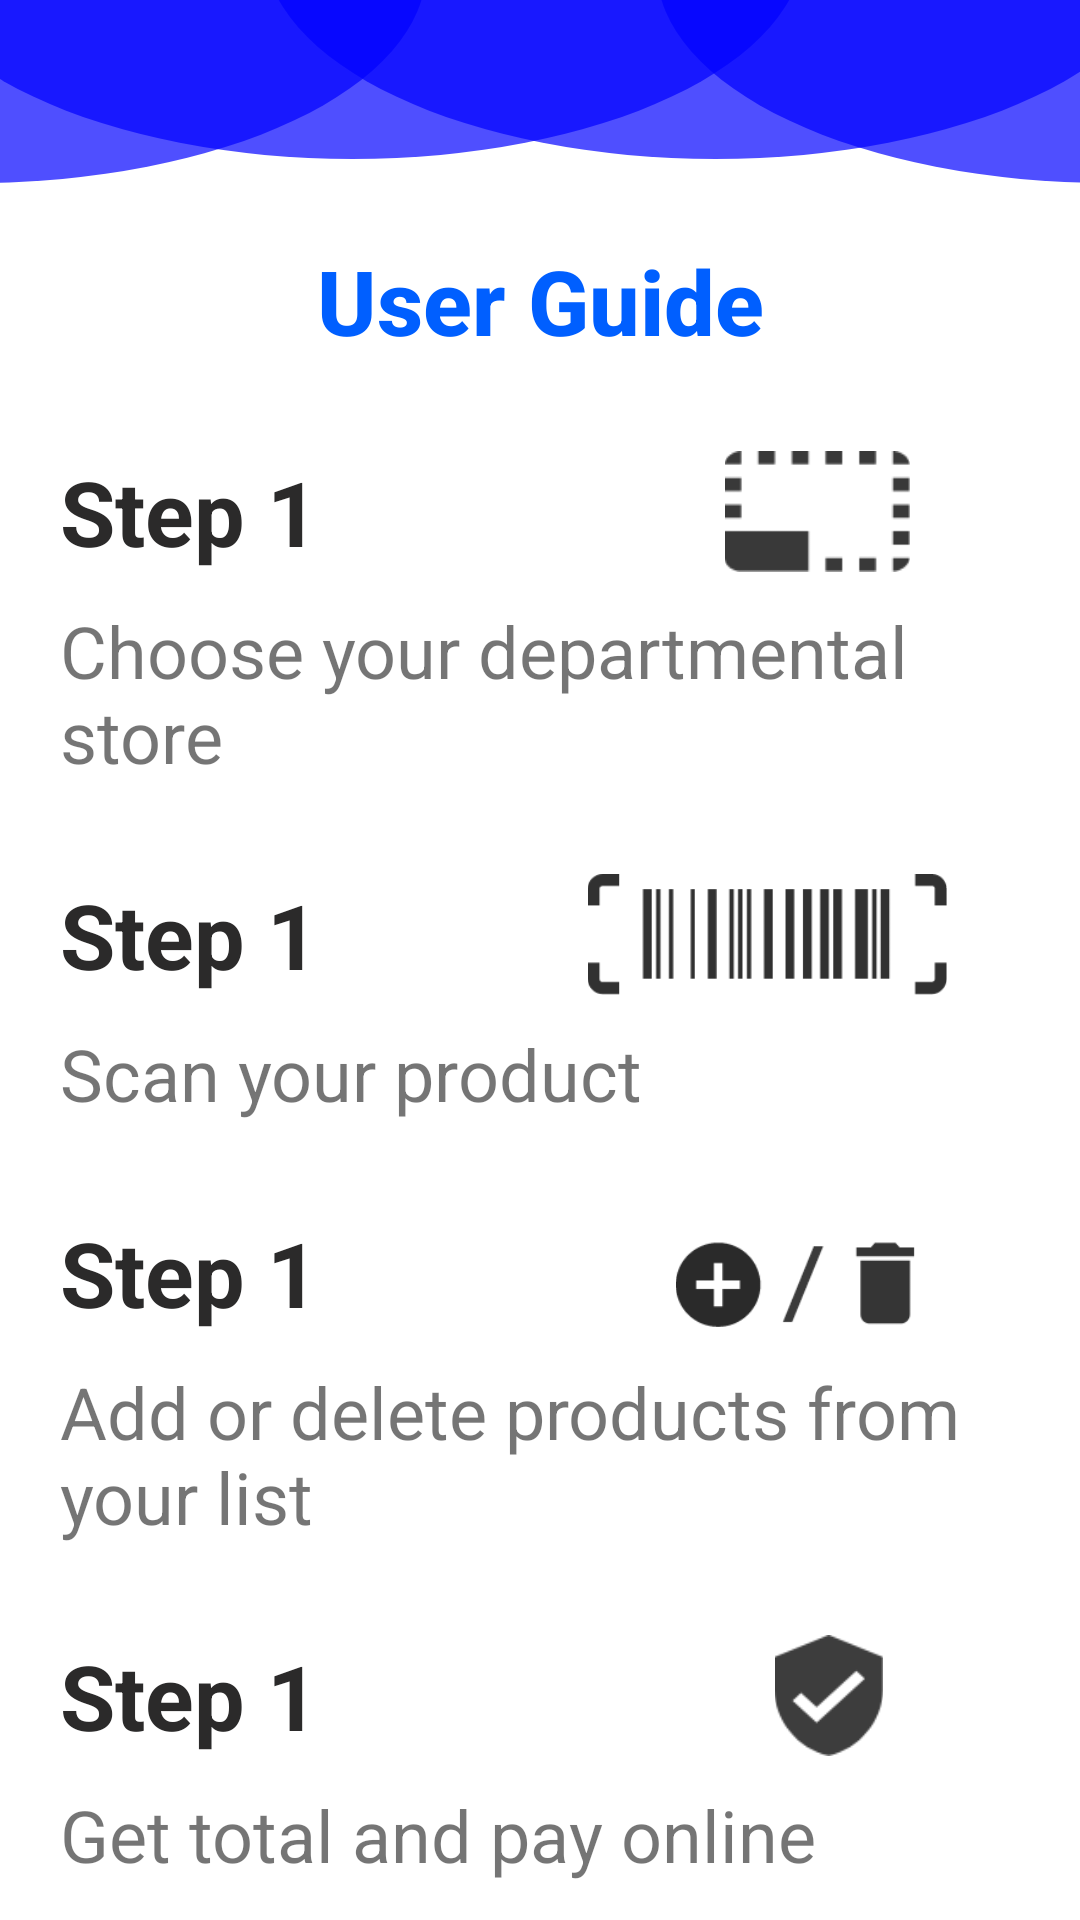

Where to tap for icons on this 1080x1920 app screen, as (x,y):
adddelete: (795,1284)
scancode: (767,934)
select: (817,511)
